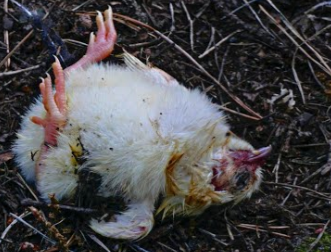Unhealthy: (10, 13, 277, 242)
